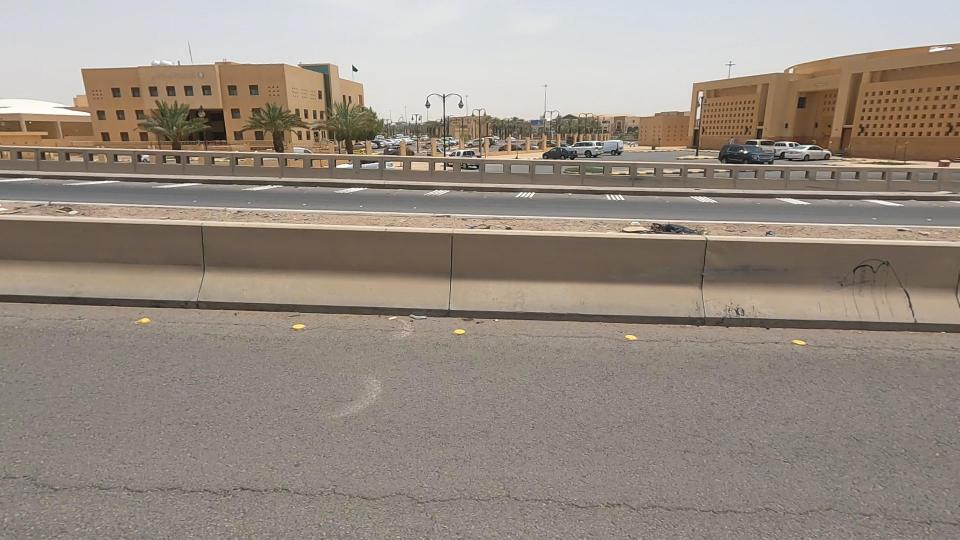GARBAGE: (584, 191, 725, 255), (32, 184, 107, 238)
